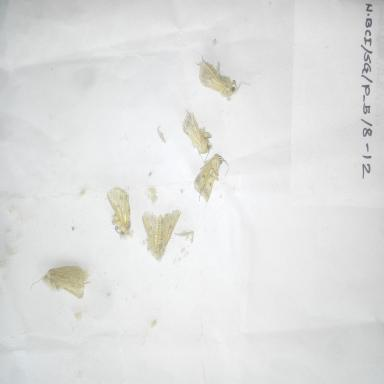abw: (193, 51, 255, 100), (139, 204, 184, 266), (28, 260, 91, 304), (175, 106, 216, 165), (192, 148, 232, 208), (102, 181, 134, 237)
